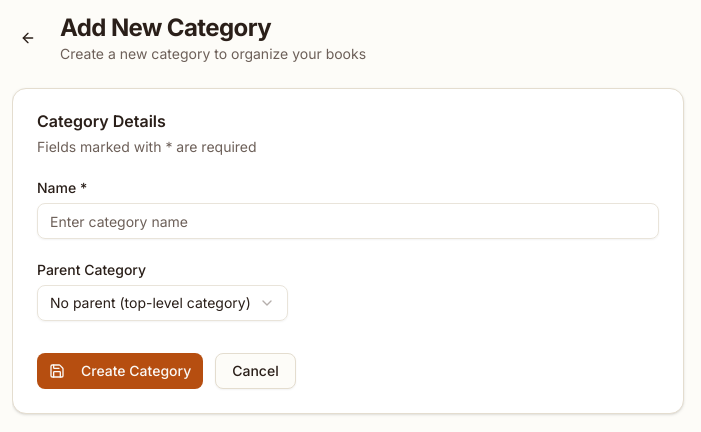
Test: CreateCategoryPage › should show "Creating..." while submitting
Step 1. Type "New Category" into the field labelled "Name *" → coordinates (348, 221), box [37,203,659,239]
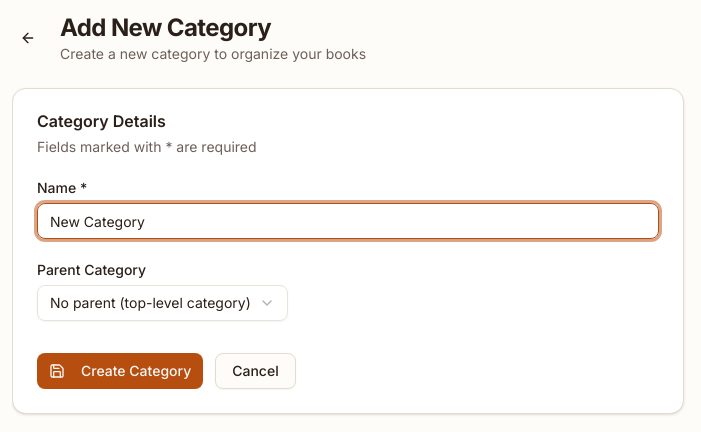
Step 2. Click the button "Create Category" → coordinates (120, 371), box [37,353,203,389]
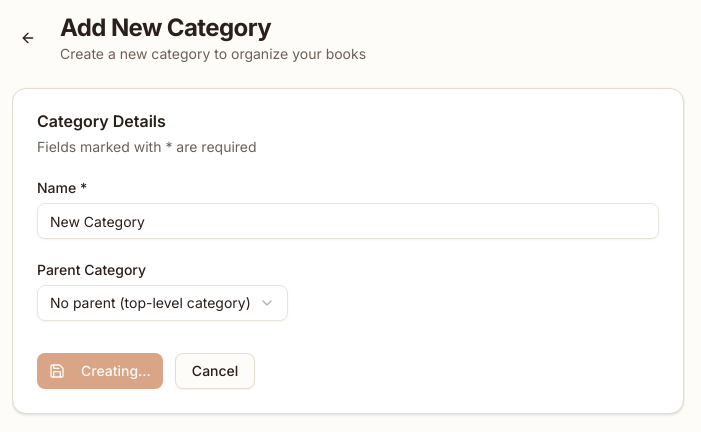
Check: the button "Creating..." is shown, box [37,353,163,389]
